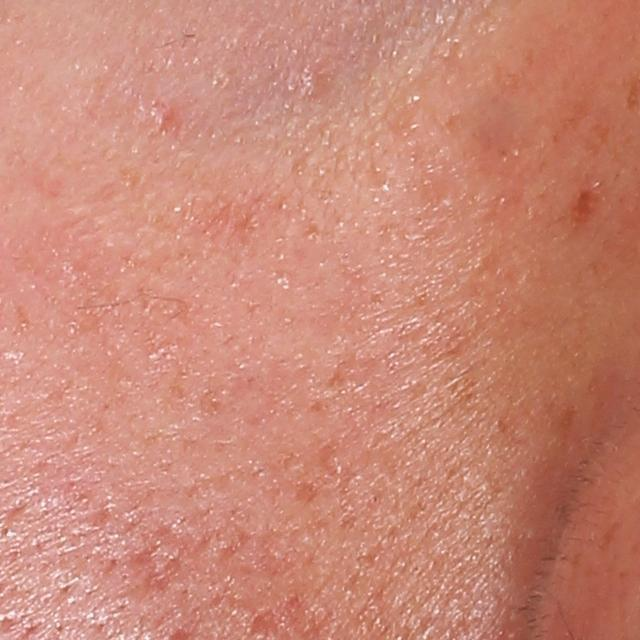melasma: (563, 182, 607, 233)
